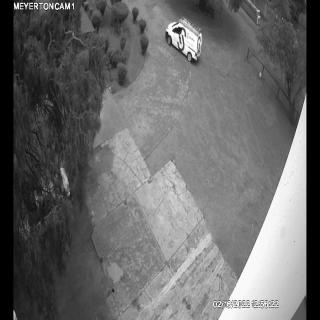car: (17, 166, 71, 246), (164, 16, 202, 62)
